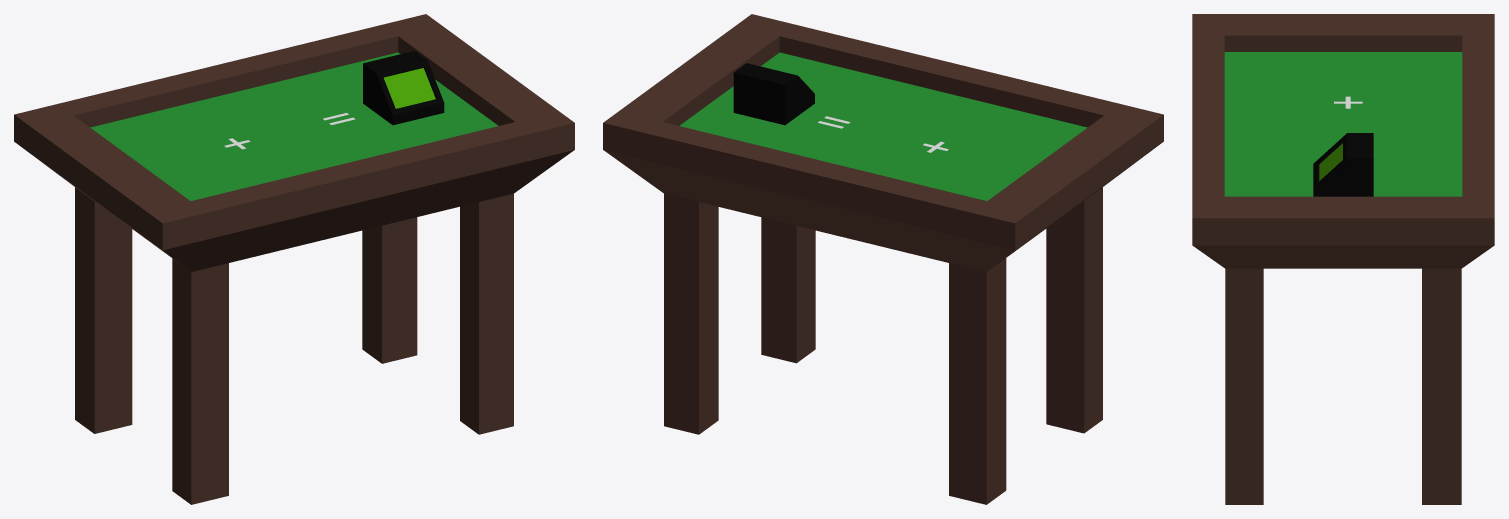
The model's file is stol_kosci.fbx.
3 renders of one model, left to right at view 1: azimuth 30°, elevation 25°; view 2: azimuth 150°, elevation 25°; view 3: azimuth 270°, elevation 25°, orthographic.
Visible parts, largest first — view 1: STOL, WYSWIETLACZ; view 2: STOL, WYSWIETLACZ; view 3: STOL, WYSWIETLACZ.
Part boxes in pixels (bbox=[...]): STOL: bbox=[14, 14, 574, 504]; WYSWIETLACZ: bbox=[363, 51, 444, 125]; STOL: bbox=[603, 14, 1163, 504]; WYSWIETLACZ: bbox=[733, 63, 814, 125]; STOL: bbox=[1192, 14, 1494, 504]; WYSWIETLACZ: bbox=[1313, 133, 1373, 196].
Size of the model in its own units: 1600 by 1218 by 1000.
